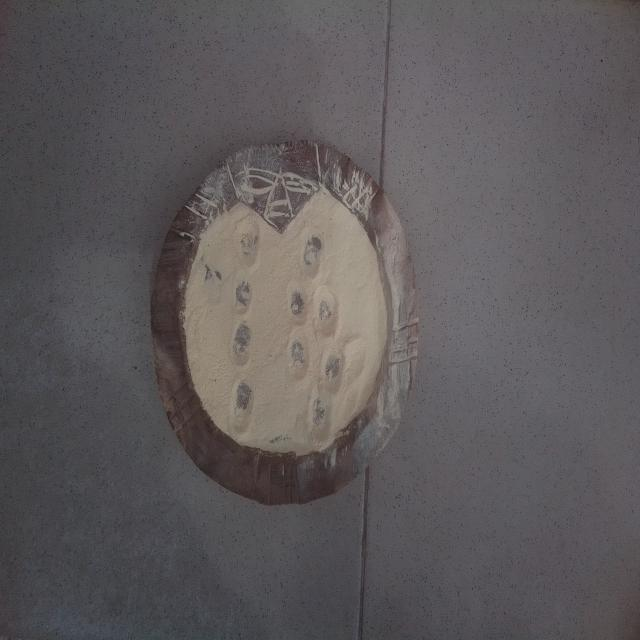double: (284, 333, 349, 387), (286, 276, 342, 332)
single: (228, 372, 258, 436), (306, 388, 336, 443), (235, 216, 263, 272), (298, 228, 328, 277), (228, 316, 256, 366), (233, 277, 254, 317)
